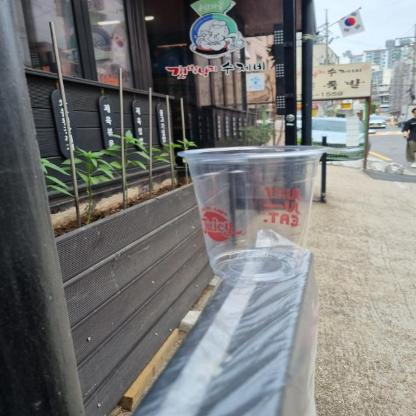Plastic Cup: (173, 141, 332, 287)
